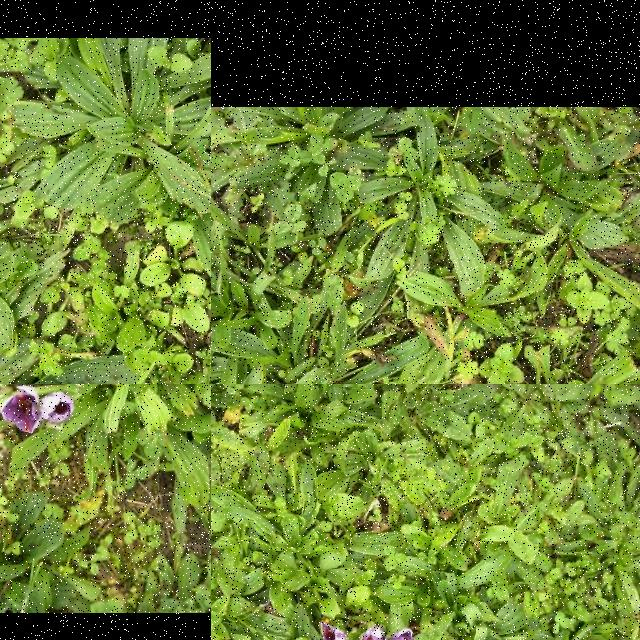flower: (0, 386, 76, 434), (0, 386, 40, 434), (40, 393, 76, 423), (321, 620, 346, 640), (354, 625, 387, 640), (387, 629, 420, 640)
